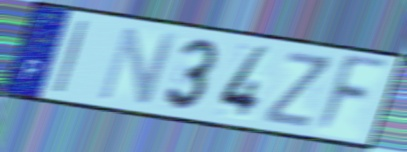3: (164, 36, 221, 113)
4: (215, 41, 274, 122)
F: (311, 52, 392, 137)
I: (51, 17, 92, 96)
N: (95, 25, 182, 106)
Z: (262, 49, 334, 131)
